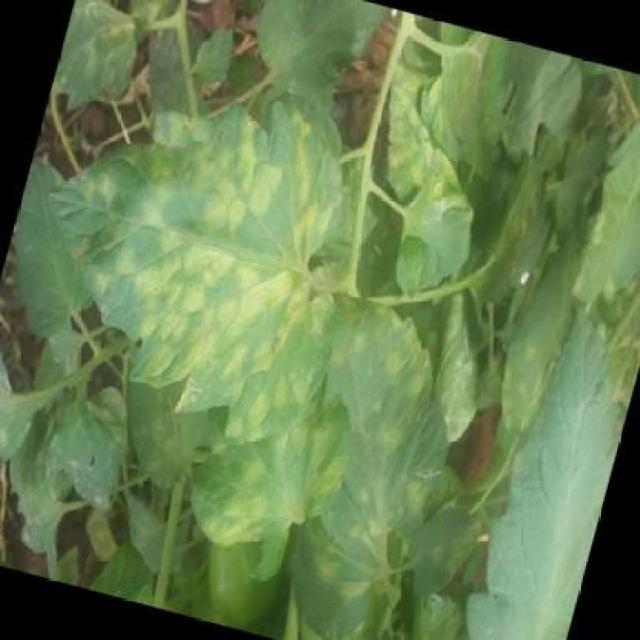Leaf Mold: (6, 47, 378, 460), (253, 293, 484, 638), (450, 299, 640, 640), (181, 332, 364, 598), (570, 135, 640, 316)
